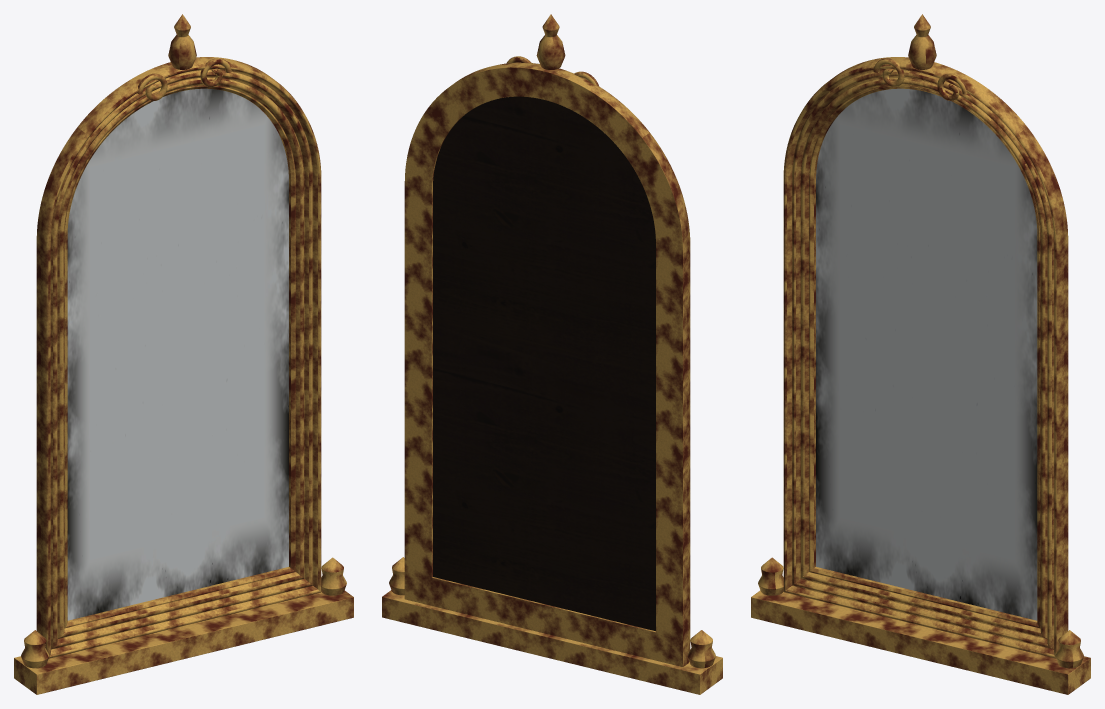
Rendered from Mirror_Tall.gltf.
The picture shows the model from 3 angles, left to right: view 1: azimuth 30°, elevation 25°; view 2: azimuth 150°, elevation 25°; view 3: azimuth 330°, elevation 25°; orthographic projection.
Parts seen in each view (by area): view 1: Mirror_Tall_Glass, Mirror_Tall_Frame; view 2: Mirror_Tall_Frame; view 3: Mirror_Tall_Glass, Mirror_Tall_Frame.
Part boxes in pixels (x1,y1,x2,y2): Mirror_Tall_Glass: (67, 88, 288, 620); Mirror_Tall_Frame: (14, 14, 353, 694); Mirror_Tall_Frame: (382, 14, 722, 694); Mirror_Tall_Glass: (816, 88, 1037, 620); Mirror_Tall_Frame: (751, 14, 1090, 694).
Size of what is drawn, in the model's own units: 1.3 by 2.44 by 0.16.
Materials: 3 (3 with a texture image).
